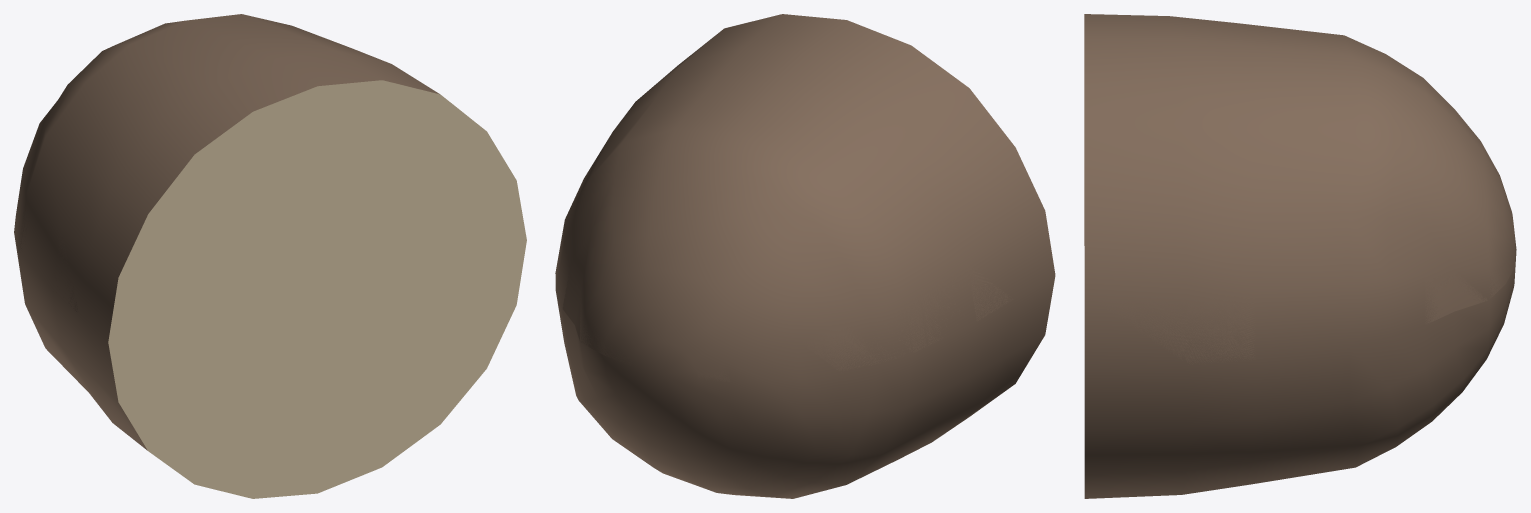
Rendered from Potato2D.fbx.
3 renders of one model, left to right at view 1: azimuth 30°, elevation 25°; view 2: azimuth 150°, elevation 25°; view 3: azimuth 270°, elevation 25°, orthographic. The views are drawn at different scales.
Parts seen in each view (by area): view 1: PotatoPeice1B, PotatoPeice2D; view 2: PotatoPeice1B, PotatoPeice2D; view 3: PotatoPeice1B, PotatoPeice2D.
Part boxes in pixels (x1=…): PotatoPeice1B: x1=14, y1=14, x2=526, y2=498; PotatoPeice2D: x1=14, y1=20, x2=485, y2=311; PotatoPeice1B: x1=555, y1=14, x2=1055, y2=498; PotatoPeice2D: x1=562, y1=14, x2=1012, y2=381; PotatoPeice1B: x1=1084, y1=14, x2=1516, y2=498; PotatoPeice2D: x1=1084, y1=23, x2=1514, y2=364.
Bounding box in the file's own units: 2.39 × 2.22 × 1.98.
